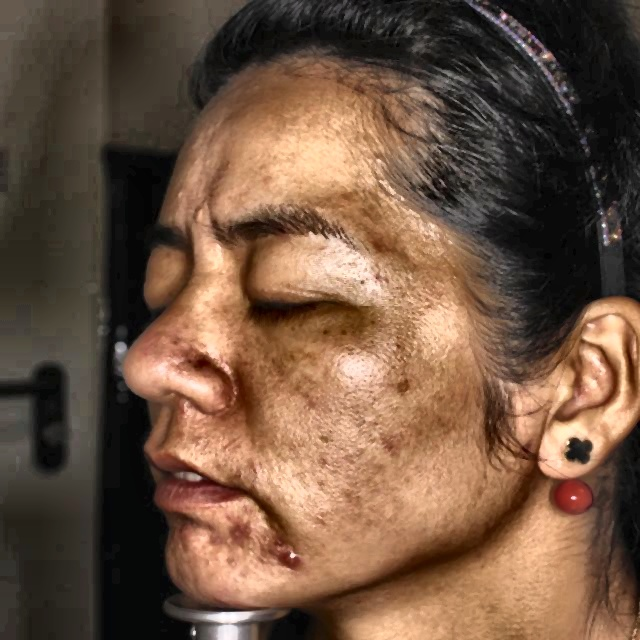pustule: (273, 546, 331, 587), (169, 533, 199, 559), (224, 520, 253, 540), (214, 592, 240, 610), (223, 553, 244, 572), (206, 535, 233, 549)
